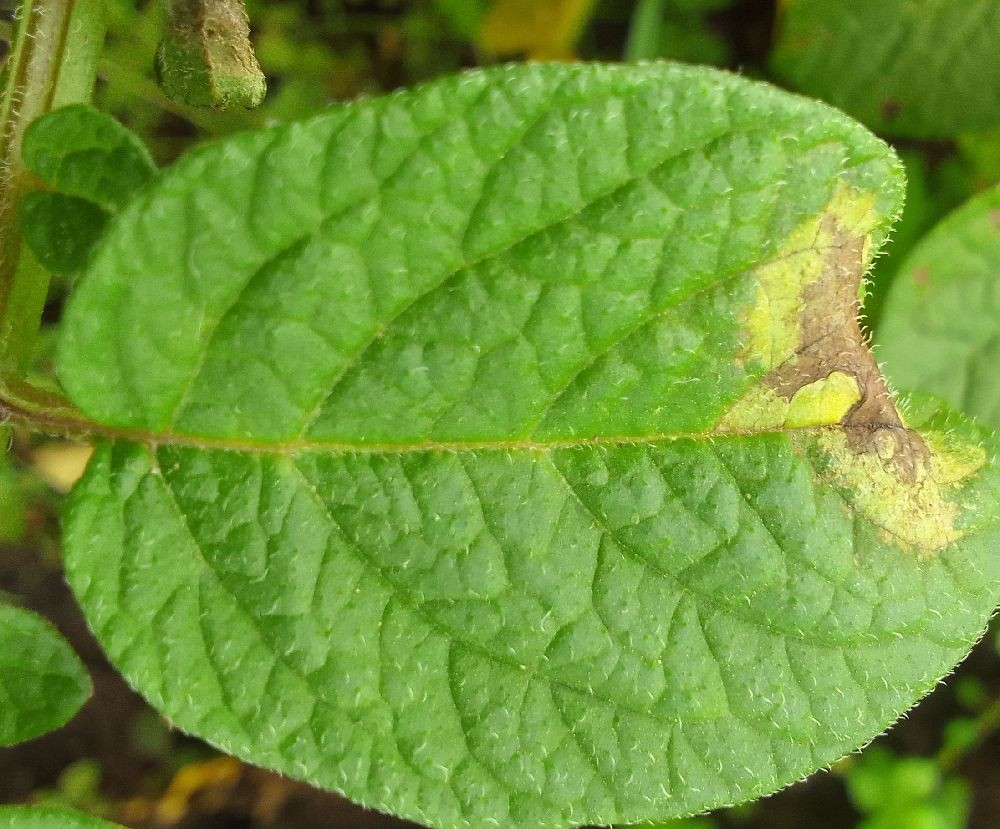late_blight: (0, 369, 439, 828), (27, 0, 701, 232), (727, 179, 968, 548), (849, 607, 1000, 829)
